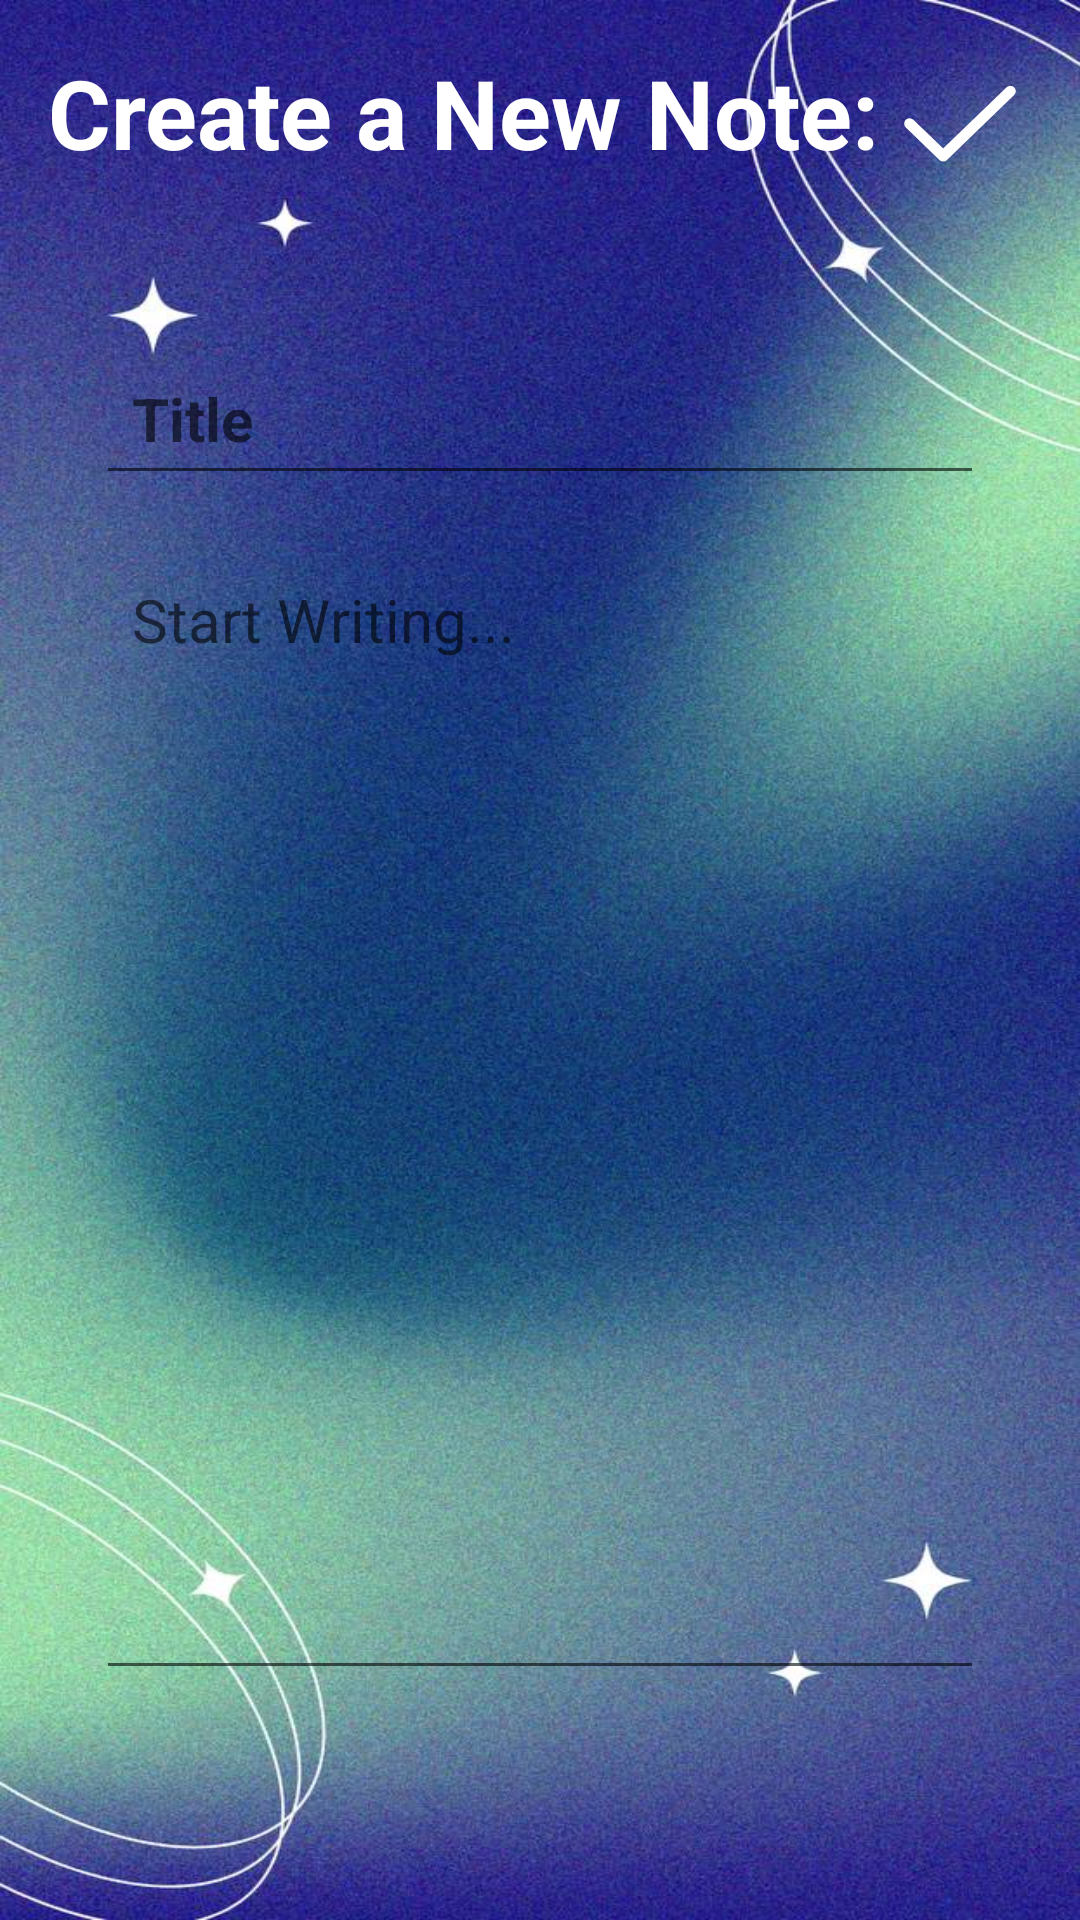

Named icons in this screenshot (1080 x 1920) and their centers, [x,y]:
done: [960,120]
